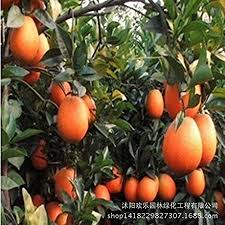orange: (163, 117, 201, 175), (60, 95, 90, 145), (9, 15, 39, 64), (146, 88, 165, 117), (139, 174, 157, 203), (124, 174, 140, 204)
